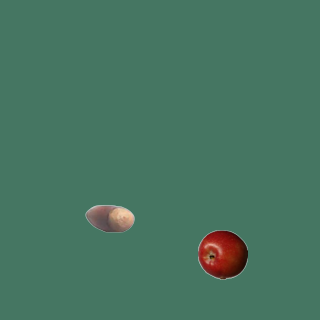Apple Braeburn: (197, 229, 247, 279)
Hazelnut: (84, 193, 134, 243)
